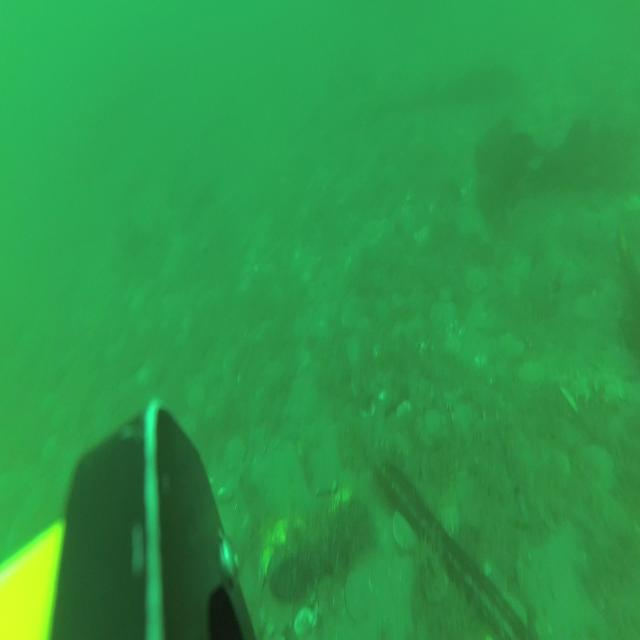scallop: (583, 441, 614, 494), (344, 570, 370, 618), (391, 511, 417, 555), (466, 263, 492, 299), (432, 300, 458, 333), (520, 358, 544, 391), (184, 379, 207, 412), (223, 441, 245, 474)
